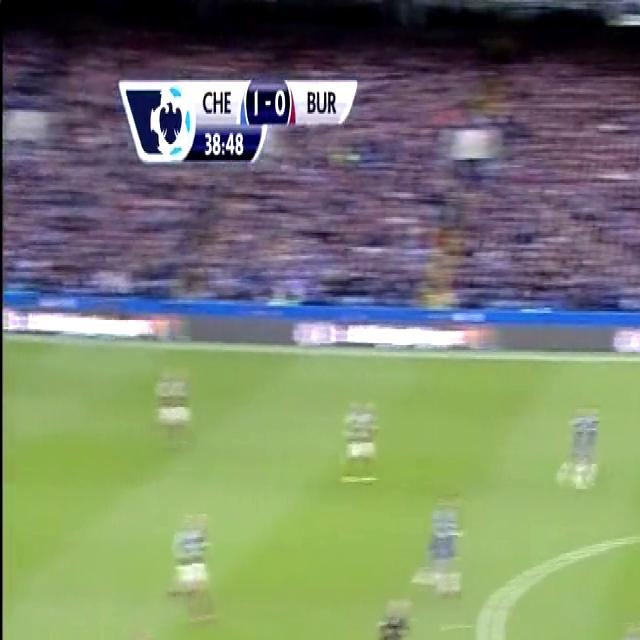referee: (354, 581, 416, 640)
soccer-player: (160, 497, 222, 638), (420, 475, 469, 618), (332, 380, 387, 499), (144, 344, 198, 456), (562, 395, 606, 503), (97, 617, 165, 640), (598, 604, 640, 640)
